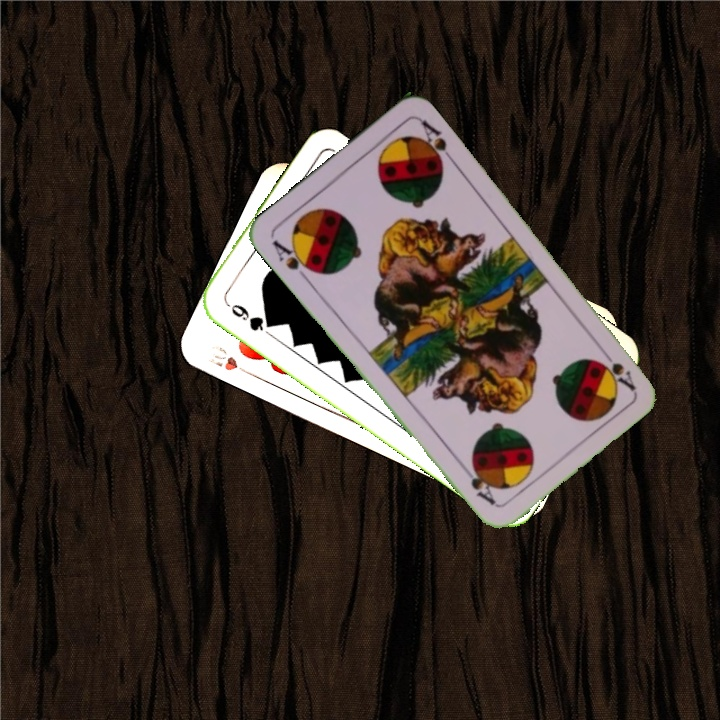G9: (221, 297, 276, 334)
H10: (203, 342, 256, 379)
SA: (268, 235, 319, 284), (594, 341, 638, 393)
